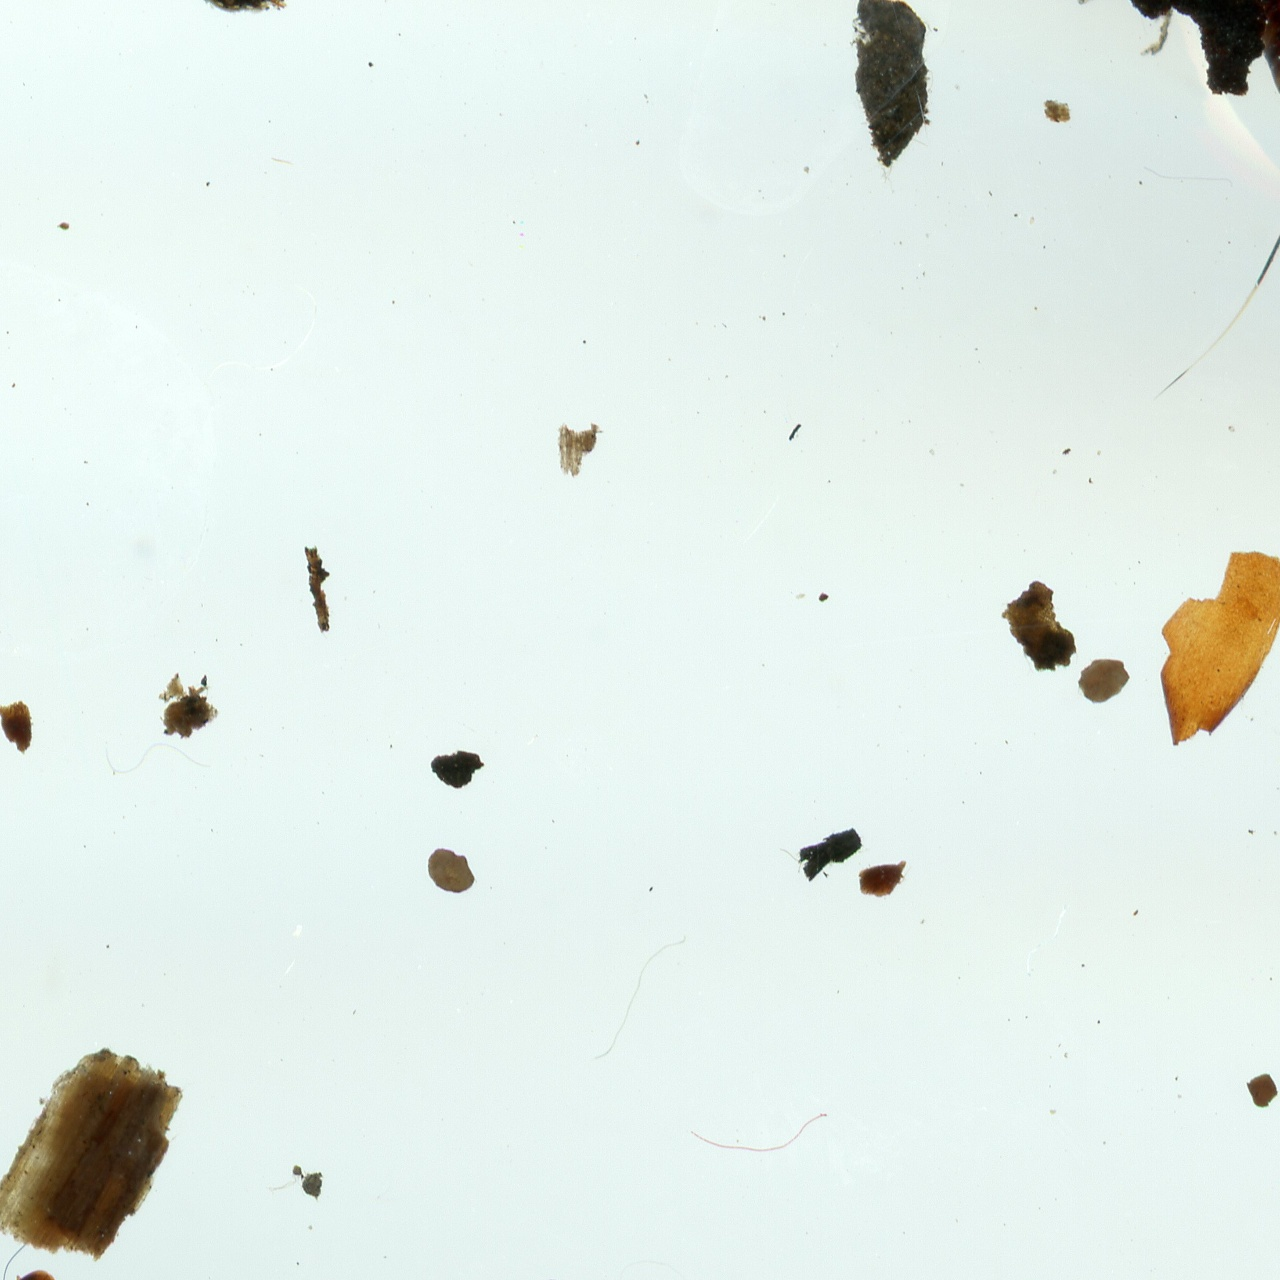arthropod: (4, 1268, 57, 1280)
